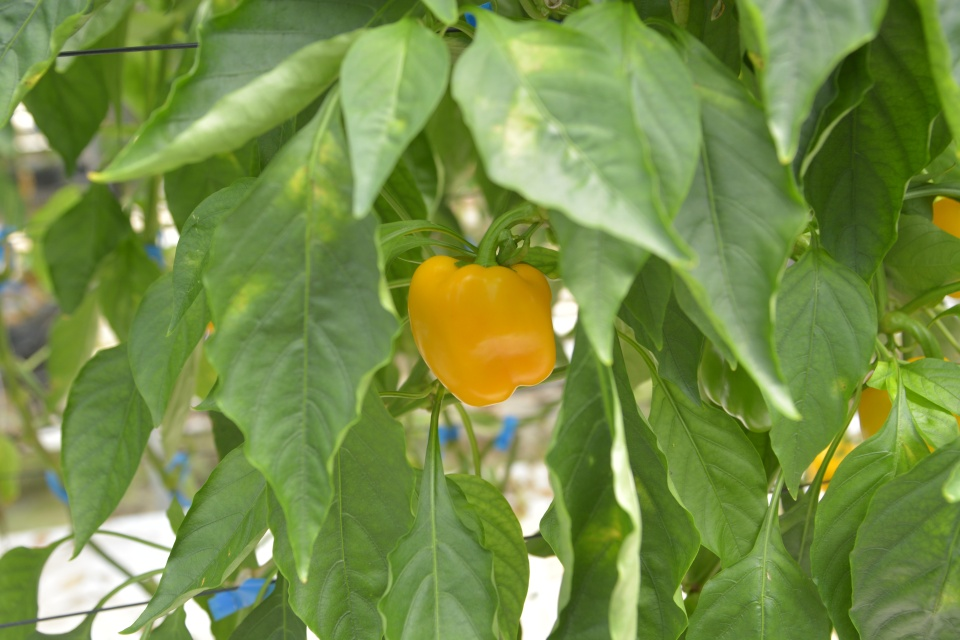fruit: (405, 249, 561, 409), (857, 355, 960, 458), (930, 192, 960, 301)
